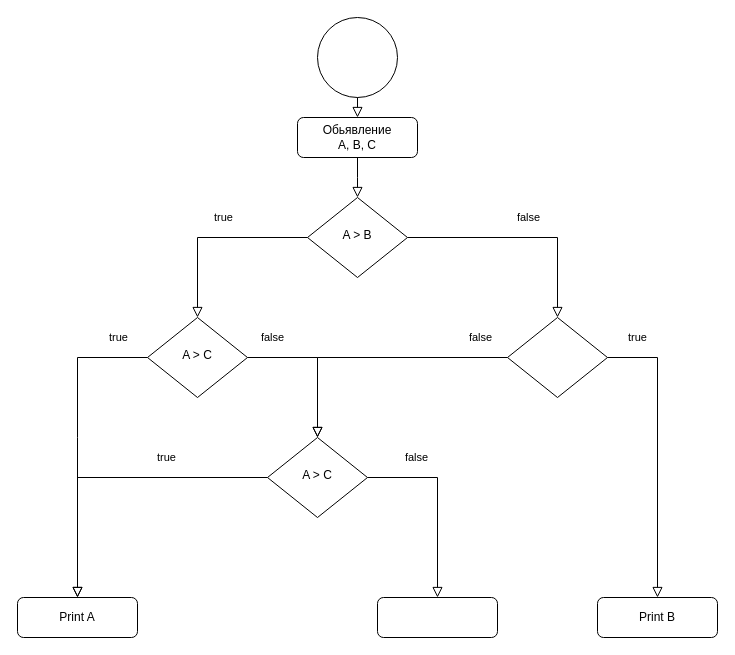
Image size: 735x655. Some labels were removed from this diagram. Each missing label, with the centre of its shape:
B > C: point 557,357
Print C: point 437,617
Начало: point 357,57
